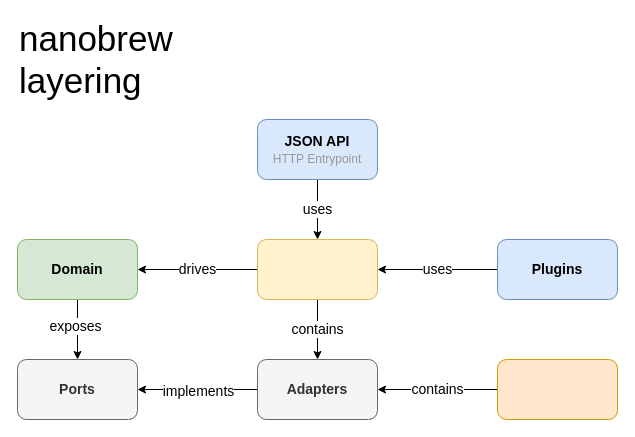
The diagram is 635 pixels wide and 437 high, and some of its shapes have lost their labels. Each missing label, with the centre of its shape:
"Application" belongs at (x=317, y=269).
"Infrastructure" belongs at (x=557, y=389).
